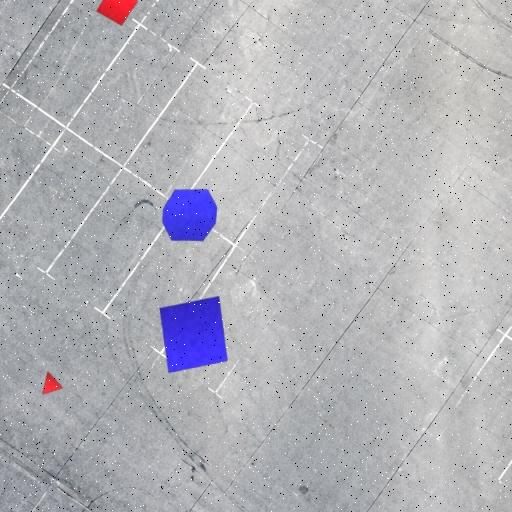BLUE_SQUARE: (159, 295, 228, 374)
RED_SQUARE: (95, 0, 138, 26)
